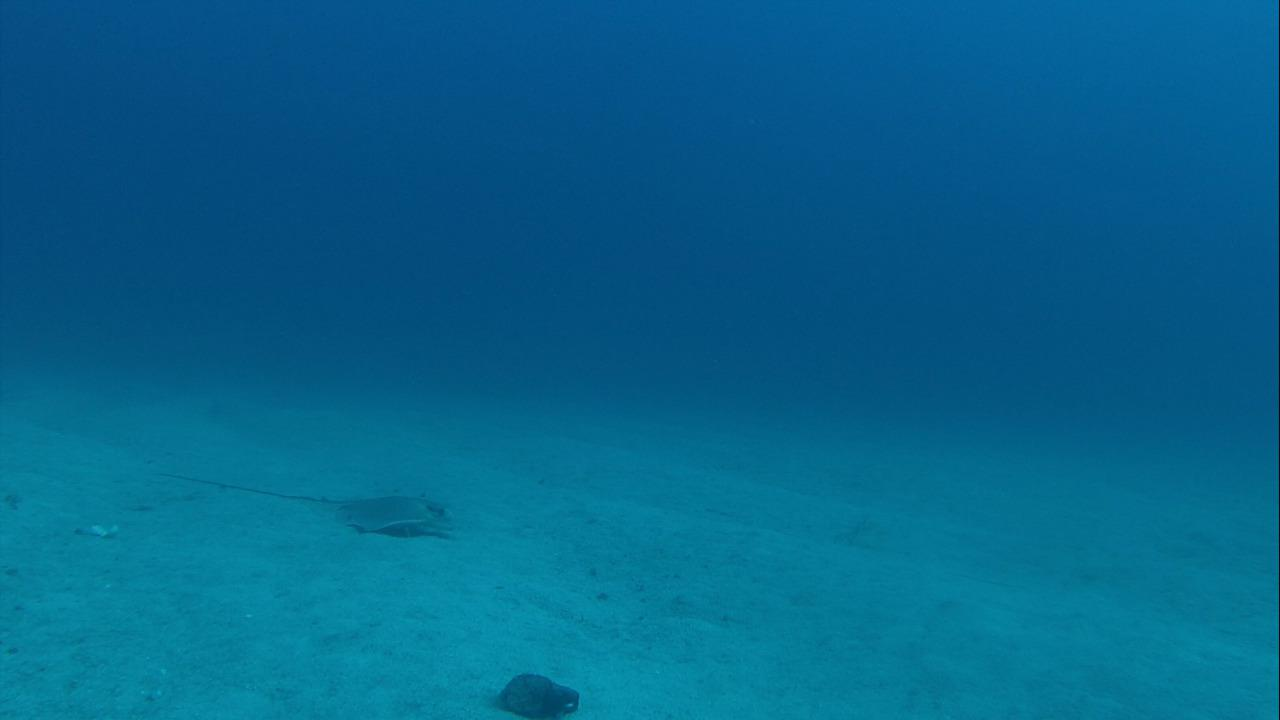myliobatis: (143, 456, 465, 541)
